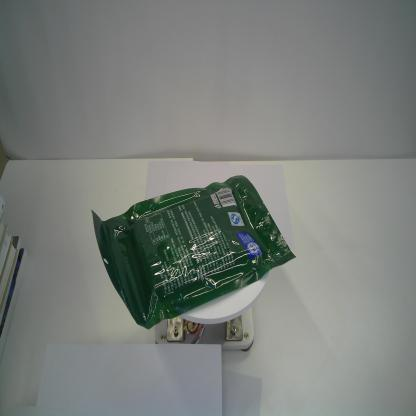Dried Food: (90, 174, 298, 330)
